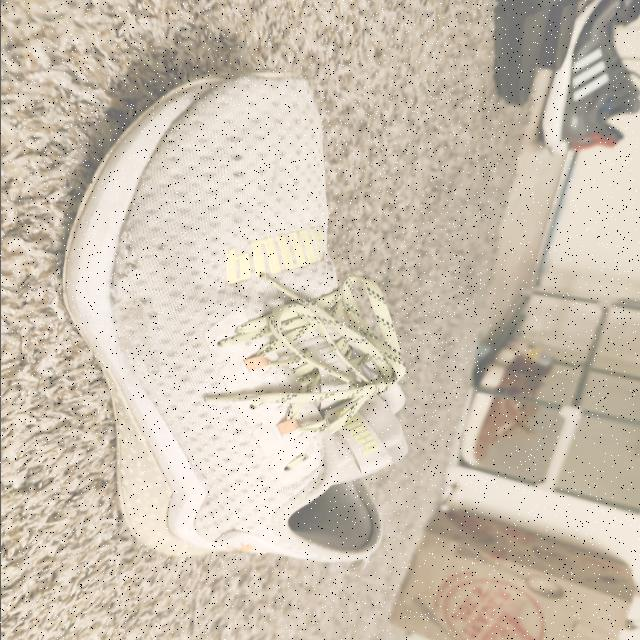white shoes: (109, 147, 372, 559)
